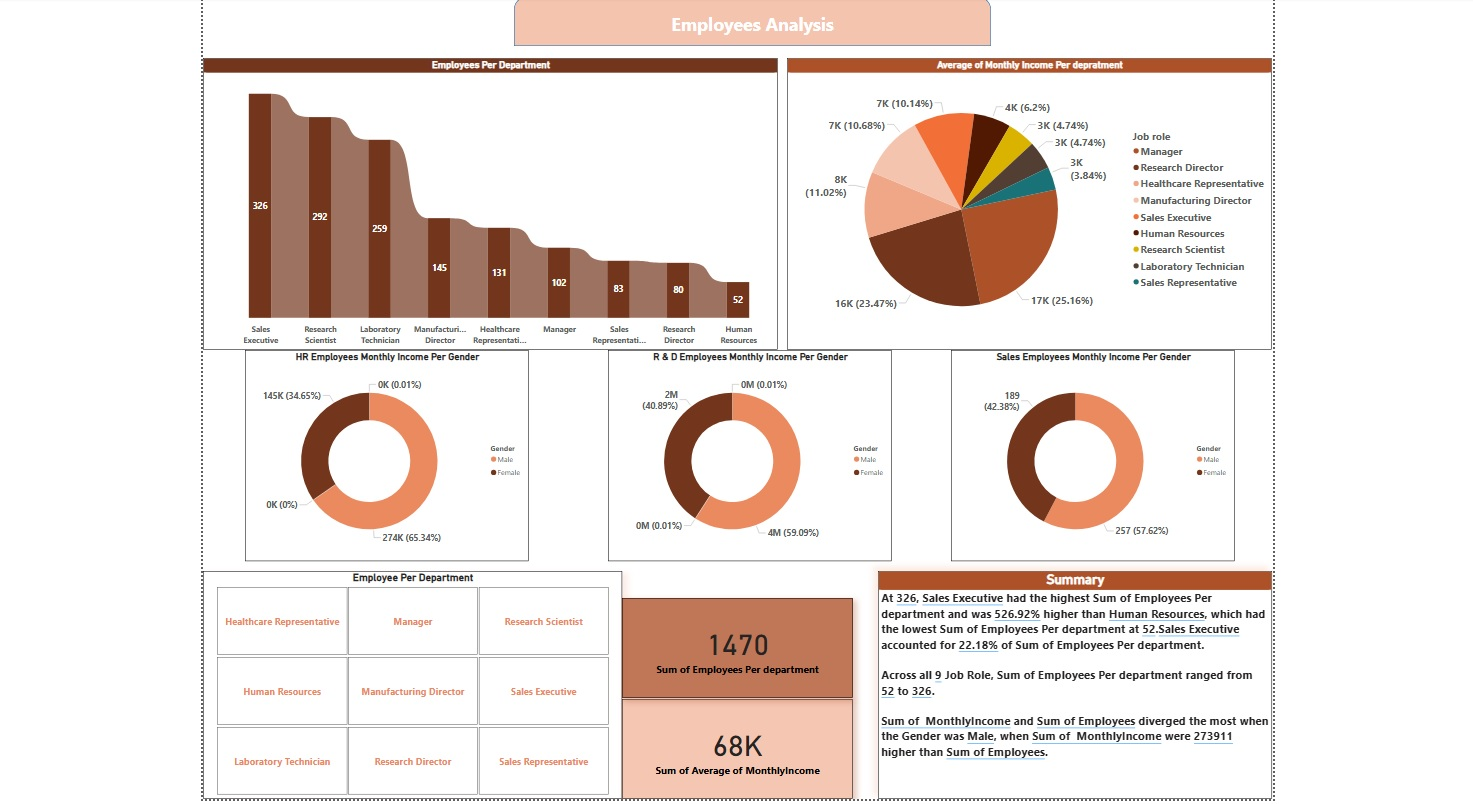

Layout of this report page (visuals, bound fields, positions):
{"tool":"powerbi","page":{"name":"Page 1","canvas":[2000,1500],"ordinal":0},"visuals":[{"type":"ribbonChart","title":"Employees Per Department ","fields":{"Category":["Employee count &deprt.Job Role"],"Y":["Sum(Employee count &deprt.Employees Per department)"]},"box":[0,114.1,1075.4,546.1],"z":0},{"type":"pieChart","title":" Average of Monthly Income Per depratment","fields":{"Category":["AVG slry per dept.Job role"],"Y":["Sum(AVG slry per dept.Average of MonthlyIncome)"]},"box":[1092.3,114.1,907.1,546.1],"z":1},{"type":"donutChart","title":"HR Employees Monthly Income Per Gender","fields":{"Category":["HR Gen.Gender"],"Y":["Sum(HR Gen.Employees)","Sum(HR Gen. MonthlyIncome)"]},"box":[78.6,660.2,531.2,394.6],"z":2},{"type":"donutChart","title":"R & D Employees Monthly Income Per Gender","fields":{"Category":["R&D Gen.Gender"],"Y":["Sum(R&D Gen.Employees)","Sum(R&D Gen. MonthlyIncome)"]},"box":[757.5,660.2,531.2,394.6],"z":3},{"type":"donutChart","title":"Sales Employees Monthly Income Per Gender","fields":{"Category":["Sales Gen.Gender"],"Y":["Sum(Sales Gen.Employees)"]},"box":[1399,660.2,531.2,394.6],"z":4},{"type":"slicer","title":"Employee Per Department","fields":{"Values":["AVG slry per dept.Job role"]},"box":[0,1073.6,783.7,426.4],"z":5},{"type":"card","fields":{"Values":["Sum(AVG slry per dept.Average of MonthlyIncome)"]},"box":[783.7,1313,432,187],"z":6},{"type":"card","fields":{"Values":["Sum(Employee count &deprt.Employees Per department)"]},"box":[783.7,1124.1,432,187],"z":7},{"type":"textbox","title":"Summary","box":[1262.5,1073.6,736.9,426.4],"z":8},{"type":"shape","box":[581.7,0,892.1,91.6],"z":9}]}

Visuals, with their boxes in screenshot pixels (x1, y1, x2, y2):
"Employees Per Department " ribbonChart: 203, 64, 773, 353
" Average of Monthly Income Per depratment" pieChart: 782, 64, 1262, 353
"HR Employees Monthly Income Per Gender" donutChart: 245, 353, 526, 562
"R & D Employees Monthly Income Per Gender" donutChart: 604, 353, 886, 562
"Sales Employees Monthly Income Per Gender" donutChart: 944, 353, 1226, 562
"Employee Per Department" slicer: 203, 572, 618, 798
card - Sum(AVG slry per dept.Average of MonthlyIncome): 618, 699, 847, 798
card - Sum(Employee count &deprt.Employees Per department): 618, 599, 847, 698
"Summary" textbox: 872, 572, 1262, 798
shape: 511, 4, 984, 52
